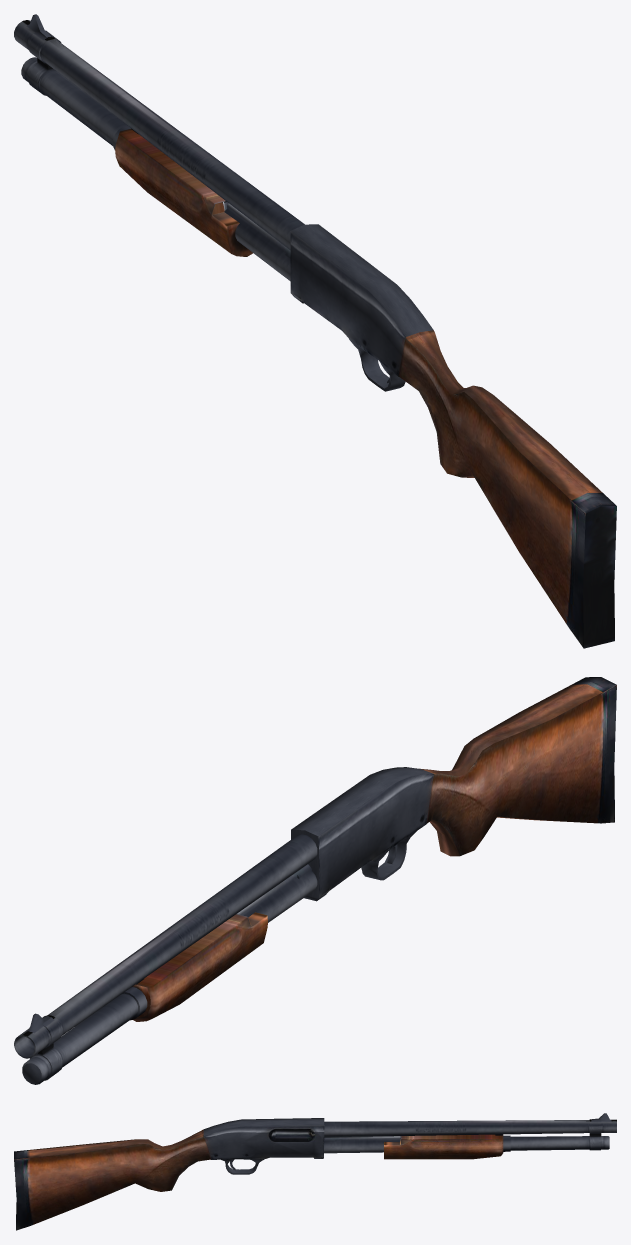
The model's file is ShotGunfinale.fbx.
3 views of the same model, one above another, from view 1: azimuth 30°, elevation 25°; view 2: azimuth 150°, elevation 25°; view 3: azimuth 270°, elevation 25° (orthographic). The views are drawn at different scales.
Parts seen in each view (by area): view 1: Cube.001, Cube.003; view 2: Cube.001, Cube.003; view 3: Cube.001, Cube.003.
Boxes of the visible parts, <box> form: Cube.001: <box>14,14,616,648</box>; Cube.003: <box>115,129,252,256</box>; Cube.001: <box>14,677,616,1084</box>; Cube.003: <box>132,912,267,1021</box>; Cube.001: <box>14,1113,616,1230</box>; Cube.003: <box>384,1134,503,1159</box>.
Bounding box in the file's own units: 17.11 × 89.23 × 431.
